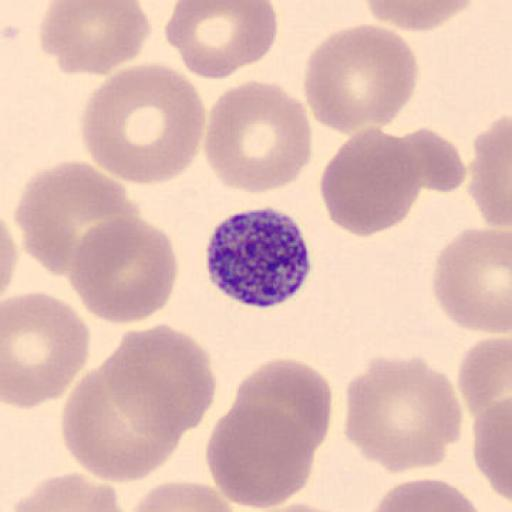Platelet: (203, 206, 316, 309)
RBC: (80, 61, 207, 186), (14, 159, 142, 277), (60, 362, 182, 484), (344, 353, 464, 474), (302, 22, 419, 135), (105, 322, 218, 437), (203, 78, 312, 194), (204, 401, 318, 510), (67, 216, 179, 326), (318, 128, 424, 238), (1, 289, 91, 409), (230, 356, 333, 454), (165, 1, 279, 81), (37, 0, 152, 78), (432, 226, 512, 334), (469, 112, 512, 232), (458, 334, 512, 426), (7, 471, 128, 512), (472, 392, 512, 506), (402, 126, 466, 193), (365, 476, 483, 512), (363, 0, 478, 34), (124, 479, 242, 512), (0, 213, 20, 295), (256, 500, 349, 512)
